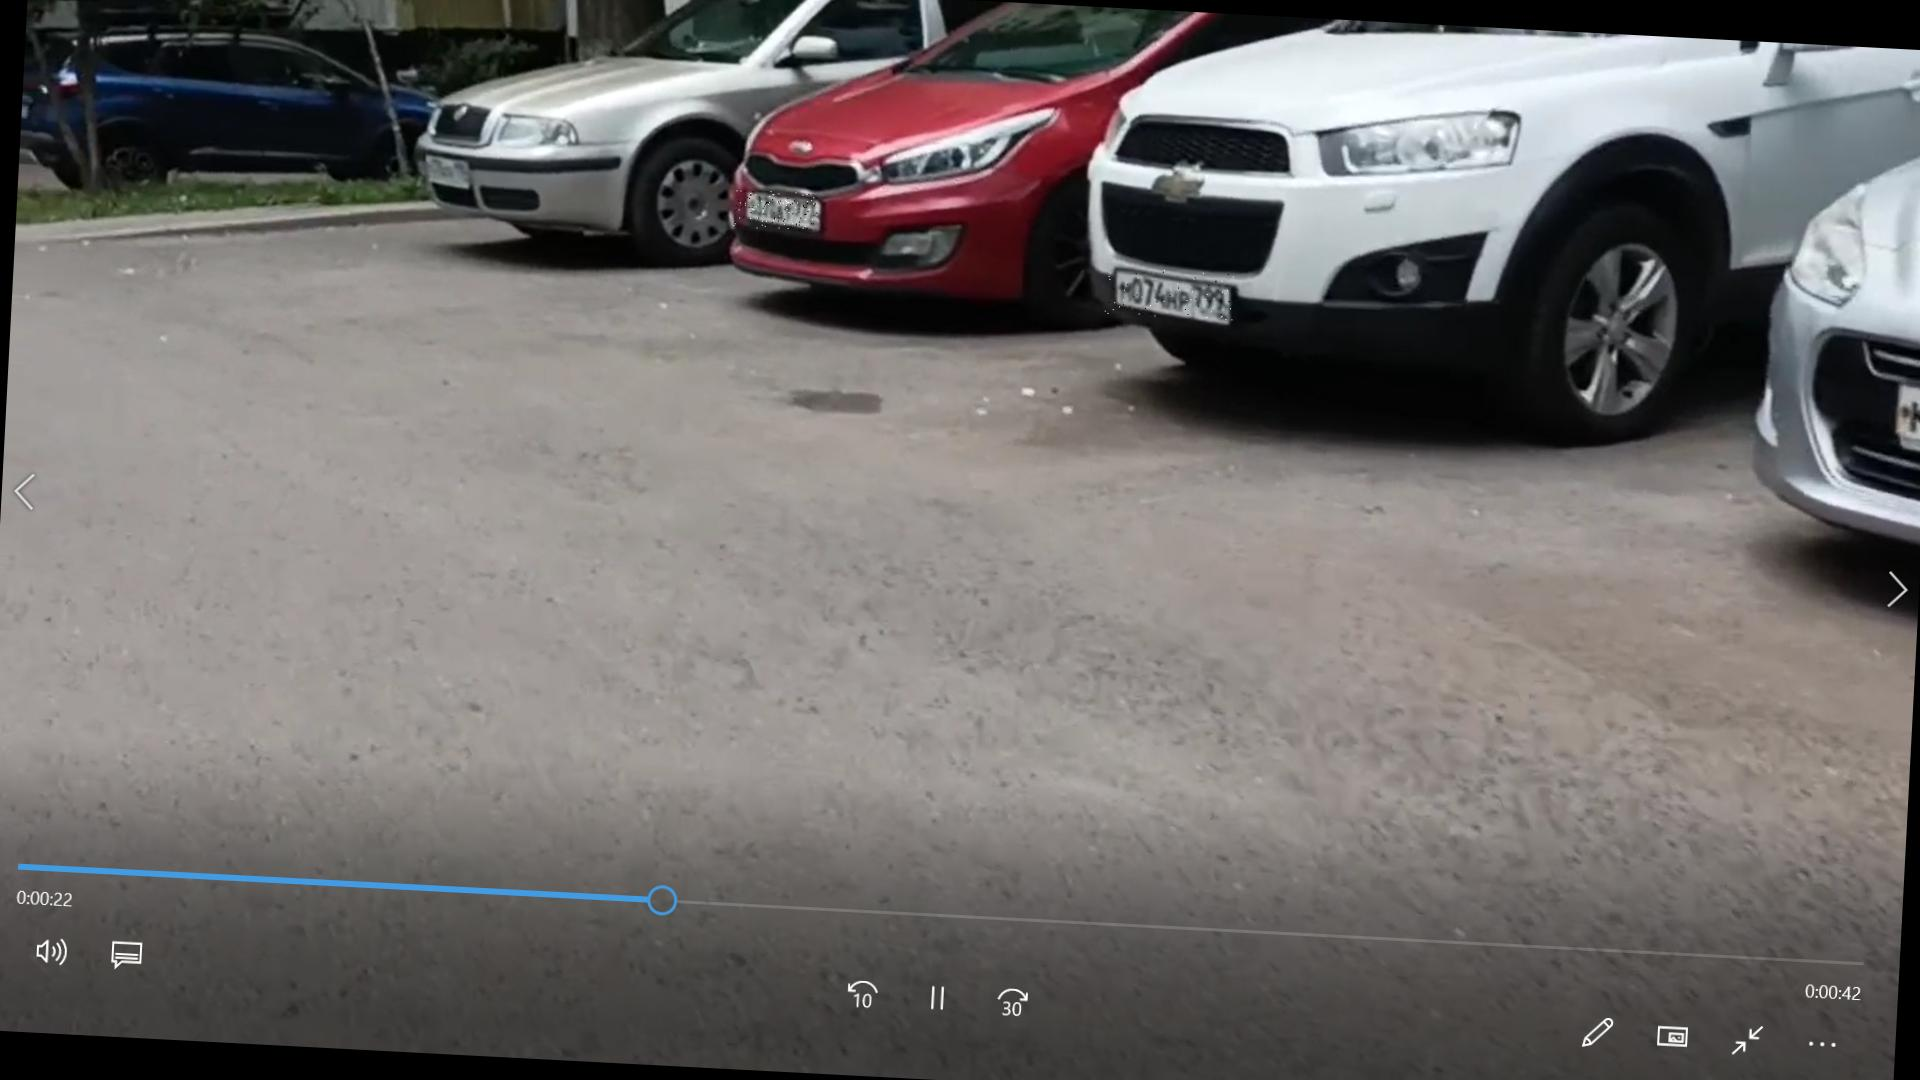plate: (1105, 267, 1236, 321), (735, 191, 820, 233)
